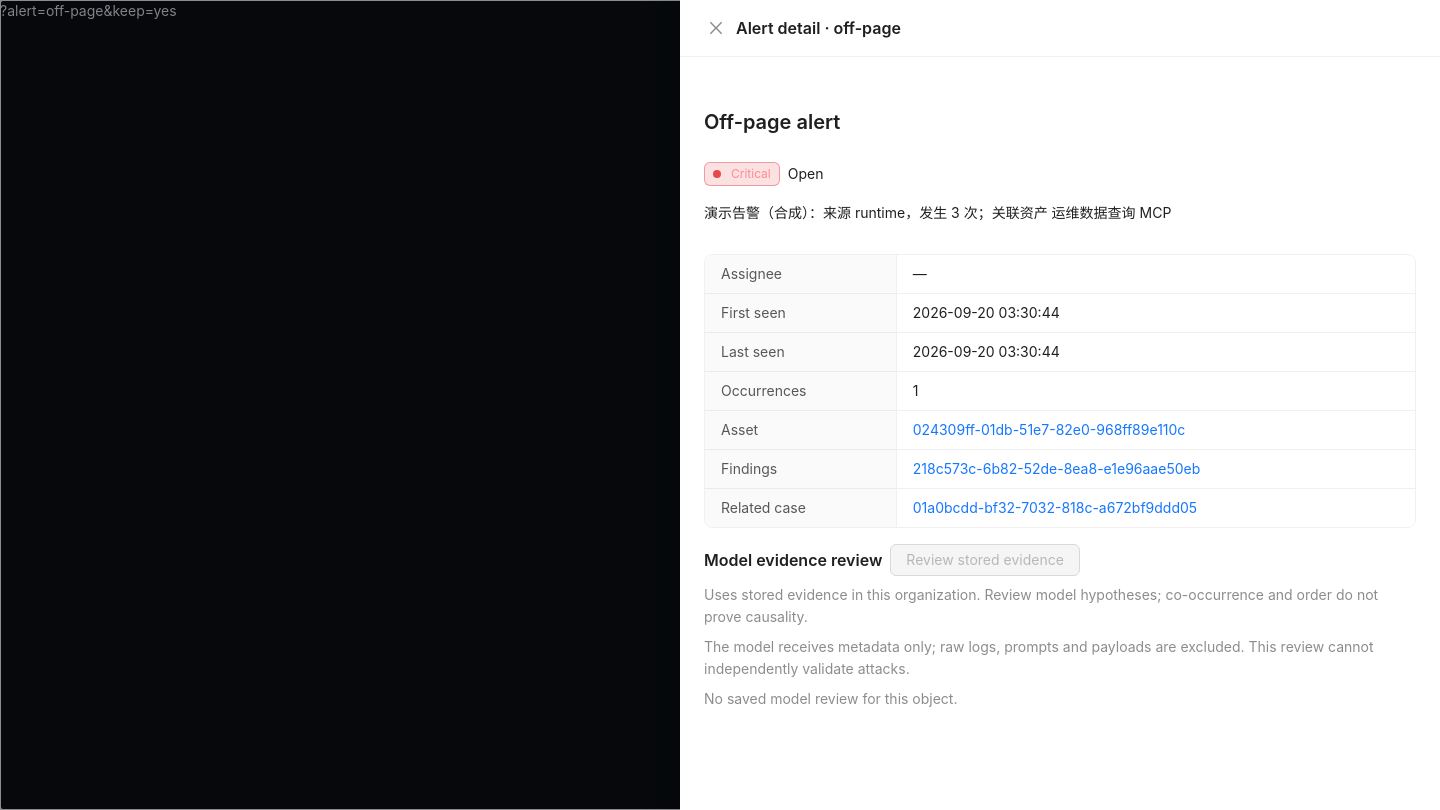
Test case: search result permalinks › opens alert outside the loaded list and keeps unrelated URL state on close
expect the heading "Off-page alert" is shown: met, box [704, 110, 840, 134]
Click the button named "Close" at (716, 28), box [704, 16, 728, 40]
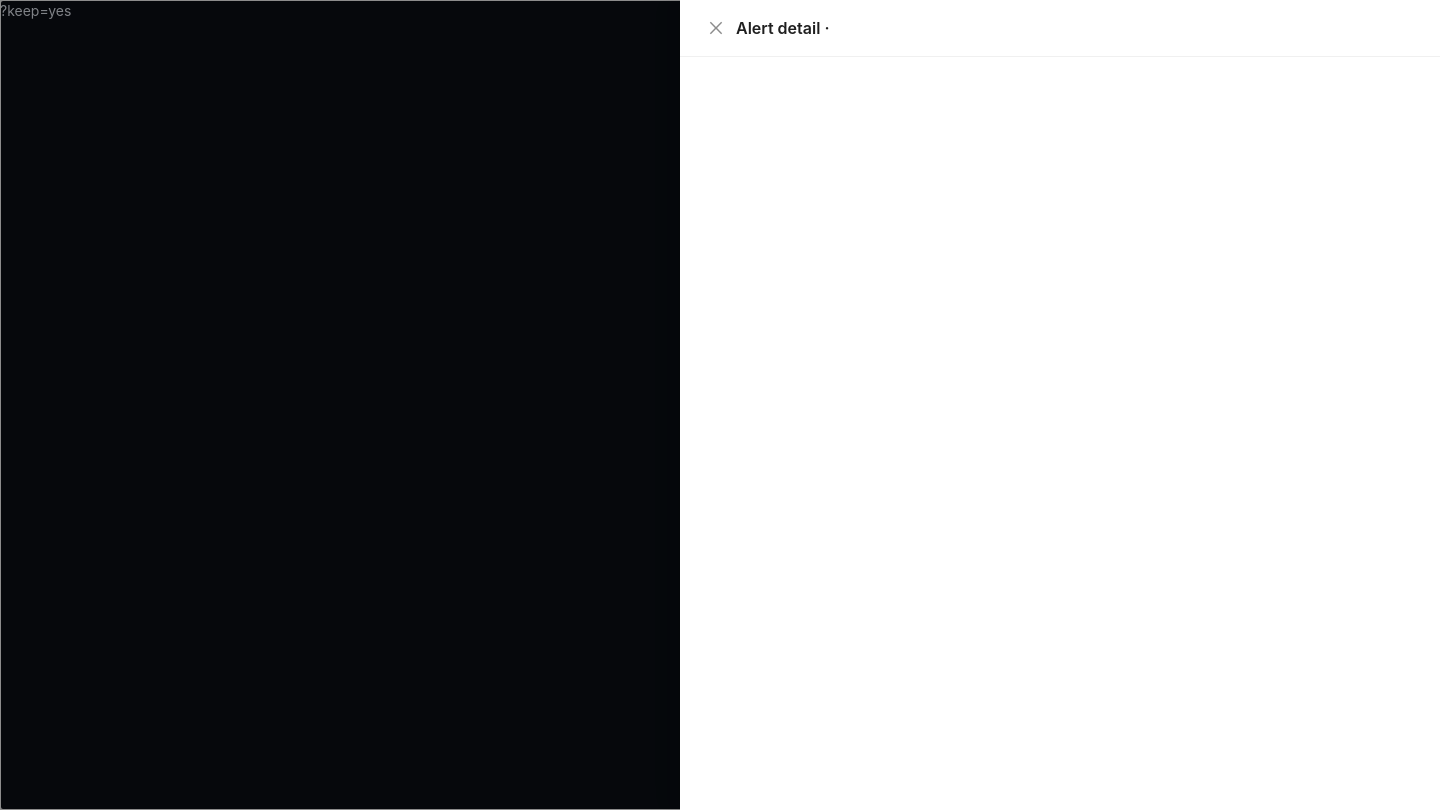
expect the text named "location" reads "?keep=yes": met, box [0, 2, 71, 19]
